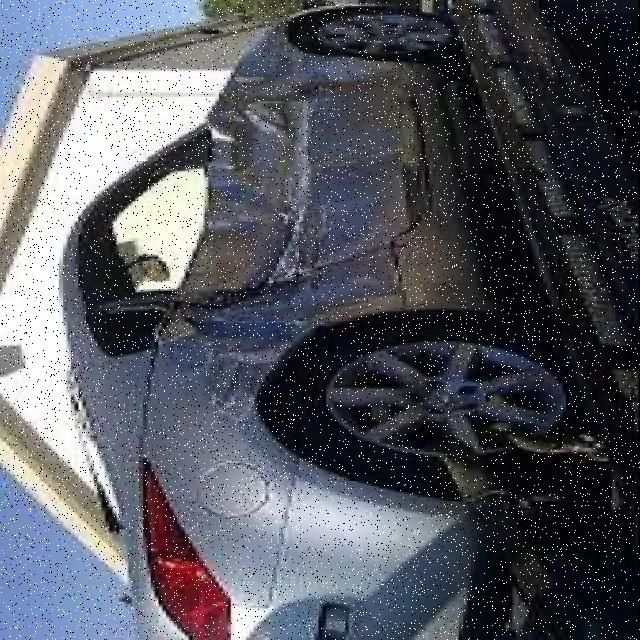damage: (156, 17, 415, 422)
